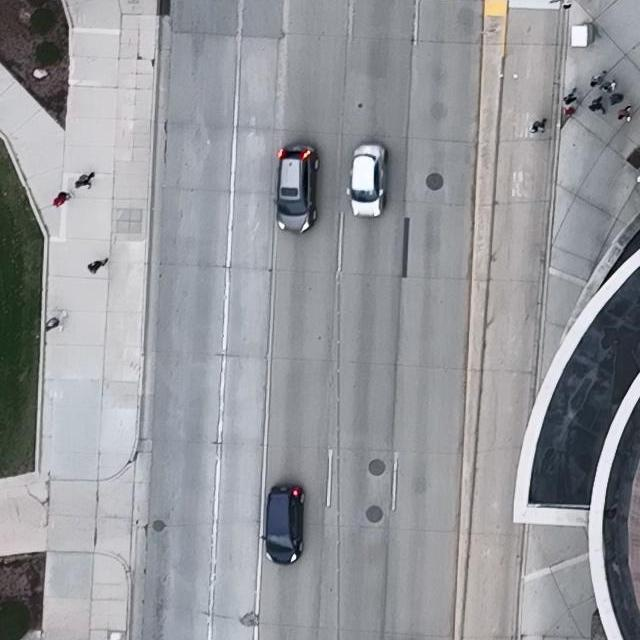car: (273, 144, 319, 233), (259, 483, 306, 566), (345, 142, 387, 217)
